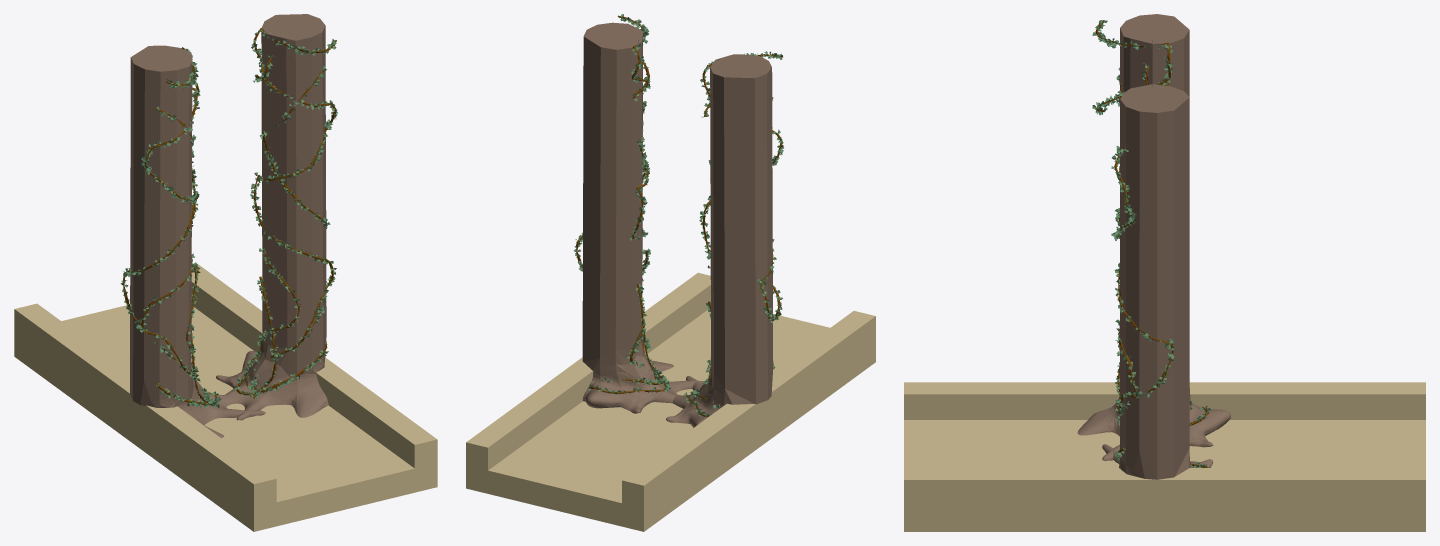
The model's file is treeplatformupdated.fbx.
3 views of the same model, side by side, from view 1: azimuth 30°, elevation 25°; view 2: azimuth 150°, elevation 25°; view 3: azimuth 270°, elevation 25° (orthographic). The views are drawn at different scales.
Visible parts, largest first — view 1: pl1, tree, tree.001; view 2: pl1, tree, tree.001; view 3: pl1, tree, tree.001.
Part boxes in pixels (x1,y1,x2,y2): pl1: (14, 264, 437, 531); tree: (216, 14, 337, 420); tree.001: (120, 45, 265, 437); pl1: (466, 272, 875, 531); tree: (574, 14, 705, 413); tree.001: (666, 51, 783, 427); pl1: (904, 382, 1425, 531); tree: (1092, 83, 1213, 479); tree.001: (1077, 14, 1230, 460).
Size of the model in its own units: 8.68 by 15.95 by 18.
